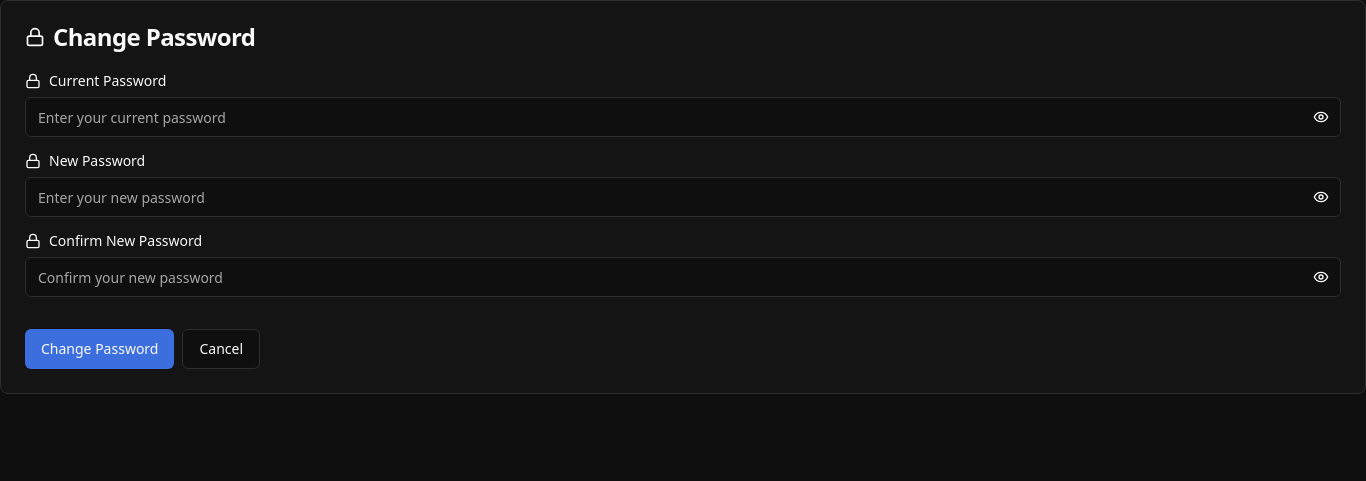
Test case: PasswordChangeForm › should show success message on successful password change
In the password field labelled "Current Password": (683, 117) [25,97,1341,137], type "currentpass"
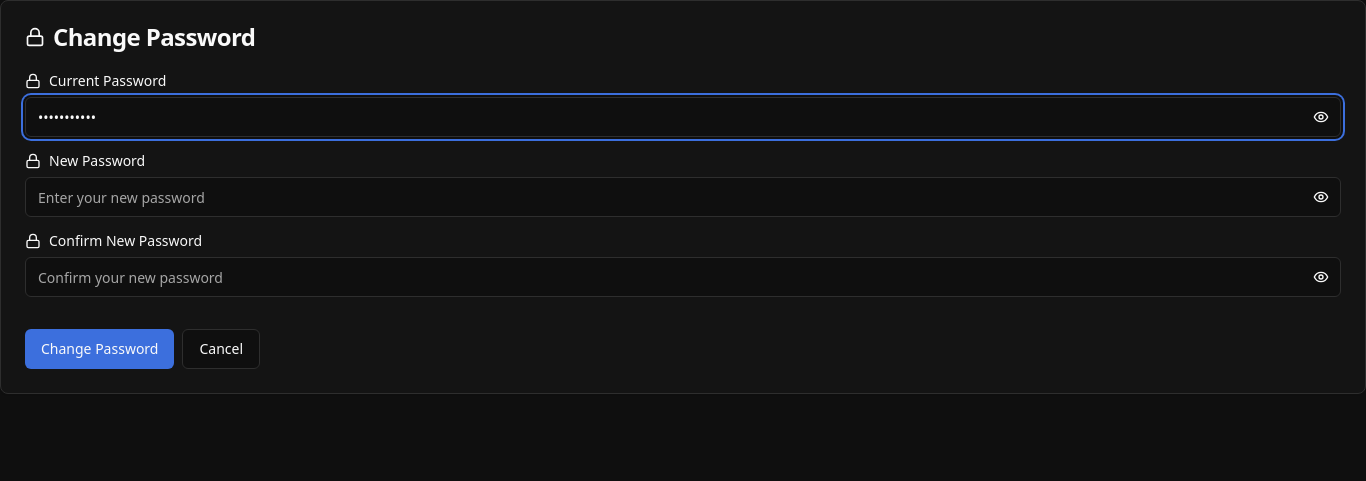
In the password field labelled "New Password": (683, 197) [25,177,1341,217], type "Newpassword123!"
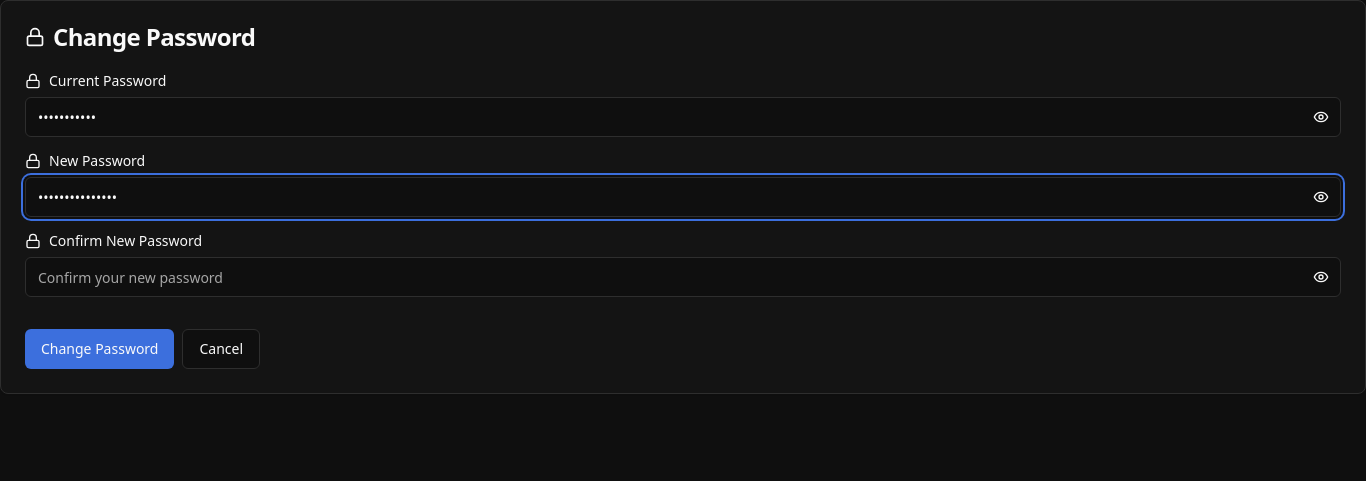
In the password field labelled "Confirm New Password": (683, 277) [25,257,1341,297], type "Newpassword123!"
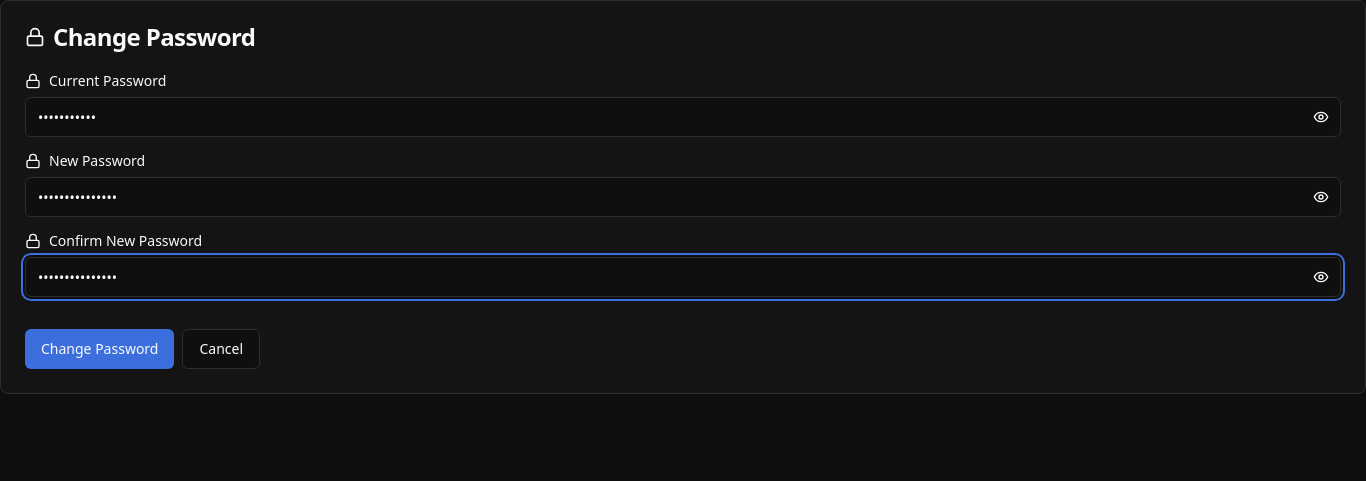
Click the button "Change Password": (100, 349) [25,329,174,369]
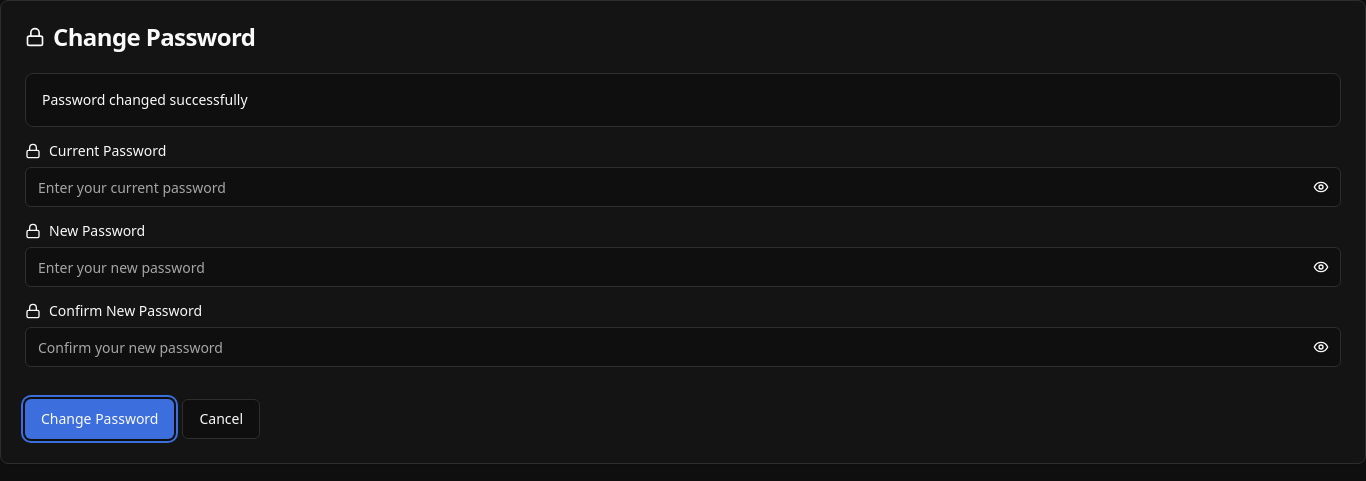
Check: the text "Password changed successfully" is shown, box [42,90,248,109]
